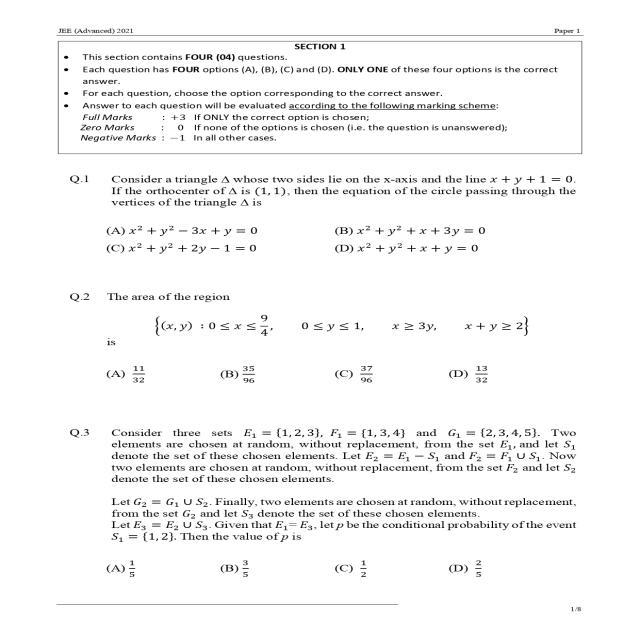Answer_Block: (57, 219, 605, 273), (57, 352, 605, 403), (57, 543, 605, 589)
Instruction: (43, 39, 609, 162)
Question_Answer_Block: (49, 422, 615, 590), (49, 282, 615, 413), (57, 159, 605, 273)
Question_Block: (49, 422, 615, 544), (49, 281, 605, 344), (49, 161, 597, 216)
Question_Paper_Area: (43, 39, 609, 596)
